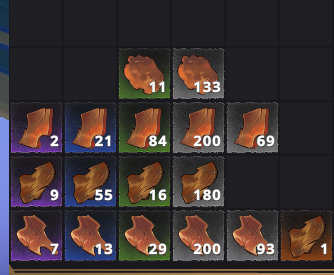durable hide: (283, 211, 330, 259), (66, 158, 115, 204), (174, 157, 220, 204), (120, 157, 166, 203), (14, 158, 59, 204)
soft hide: (172, 48, 224, 98), (119, 49, 169, 99)
strong hide: (11, 101, 61, 151), (65, 103, 115, 151), (175, 103, 224, 151), (120, 103, 168, 151), (231, 104, 276, 151)
tough hide: (229, 211, 278, 258), (68, 211, 114, 258), (13, 211, 59, 257), (178, 211, 223, 258), (122, 212, 168, 257)
